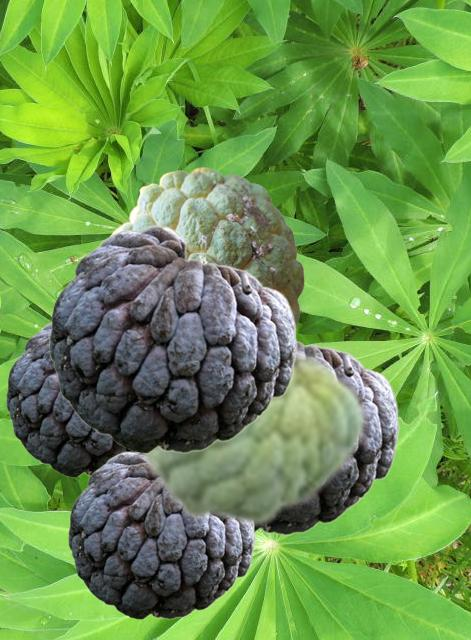atis: (49, 224, 296, 452), (131, 342, 366, 528), (110, 167, 303, 333), (68, 449, 254, 618), (255, 339, 398, 534), (6, 322, 128, 476)
